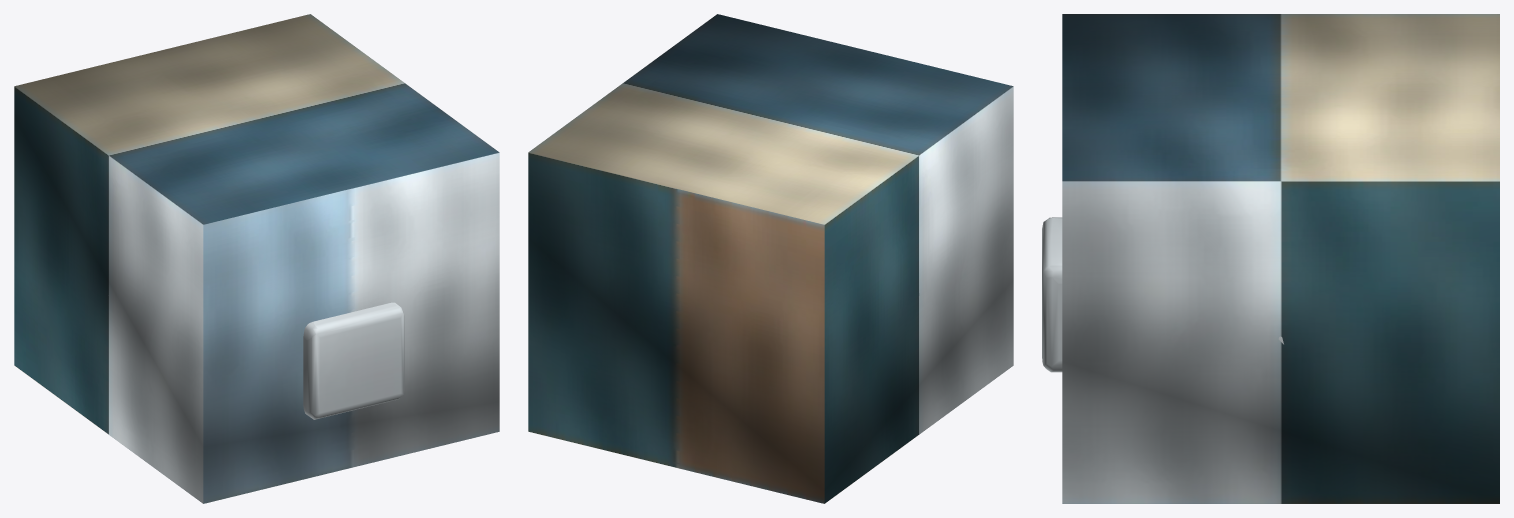
File: igloo.glb
The picture shows the model from 3 angles, left to right: view 1: azimuth 30°, elevation 25°; view 2: azimuth 150°, elevation 25°; view 3: azimuth 270°, elevation 25°; orthographic projection. The views are drawn at different scales.
Parts seen in each view (by area): view 1: col, lod0; view 2: col; view 3: col, lod0.
Part boxes in pixels (<box>): col: <box>14,14,499,503</box>; lod0: <box>303,302,404,419</box>; col: <box>528,14,1013,503</box>; col: <box>1062,14,1499,503</box>; lod0: <box>1042,217,1283,372</box>.
Size of what is drawn, in the model's own units: 3.97 by 3.58 by 4.6.
1 material, 1 textured.
